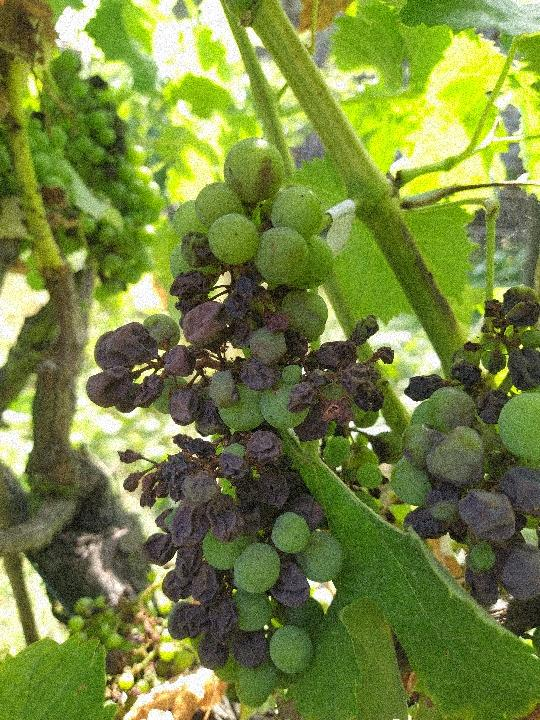grape: (83, 131, 398, 710), (14, 51, 161, 293)
